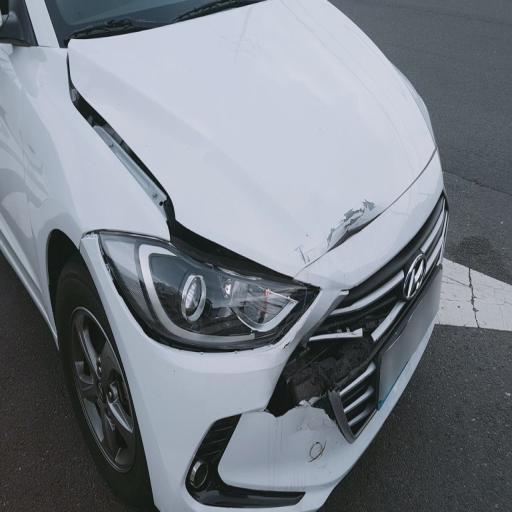broken: (83, 53, 248, 295)
scratch: (272, 168, 410, 286), (250, 363, 350, 491)
